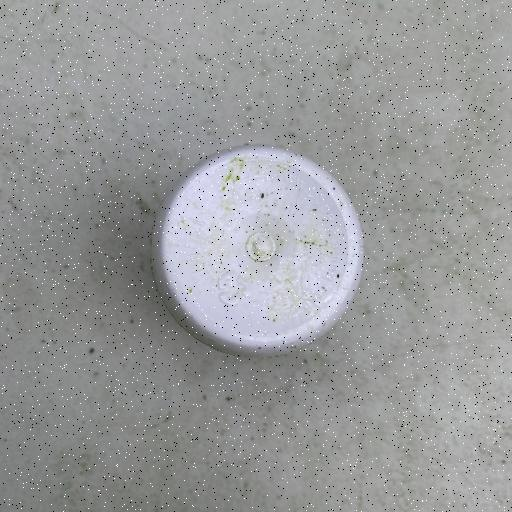Plastic: (148, 142, 366, 360)
